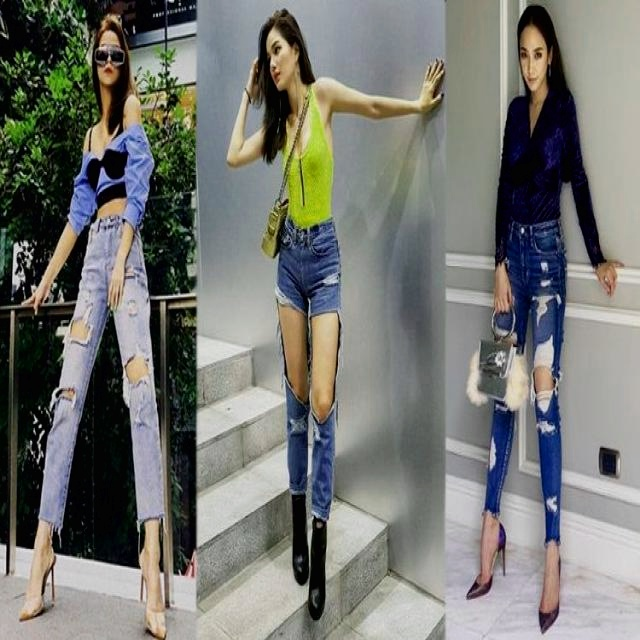Crop_Top: (86, 148, 130, 216)
Sleeveless: (314, 74, 337, 119), (124, 92, 142, 125), (84, 121, 94, 150)
low_neckline: (282, 76, 314, 224), (88, 113, 125, 199)
ripped_pants: (36, 214, 165, 534), (482, 220, 572, 547), (277, 224, 344, 517)
